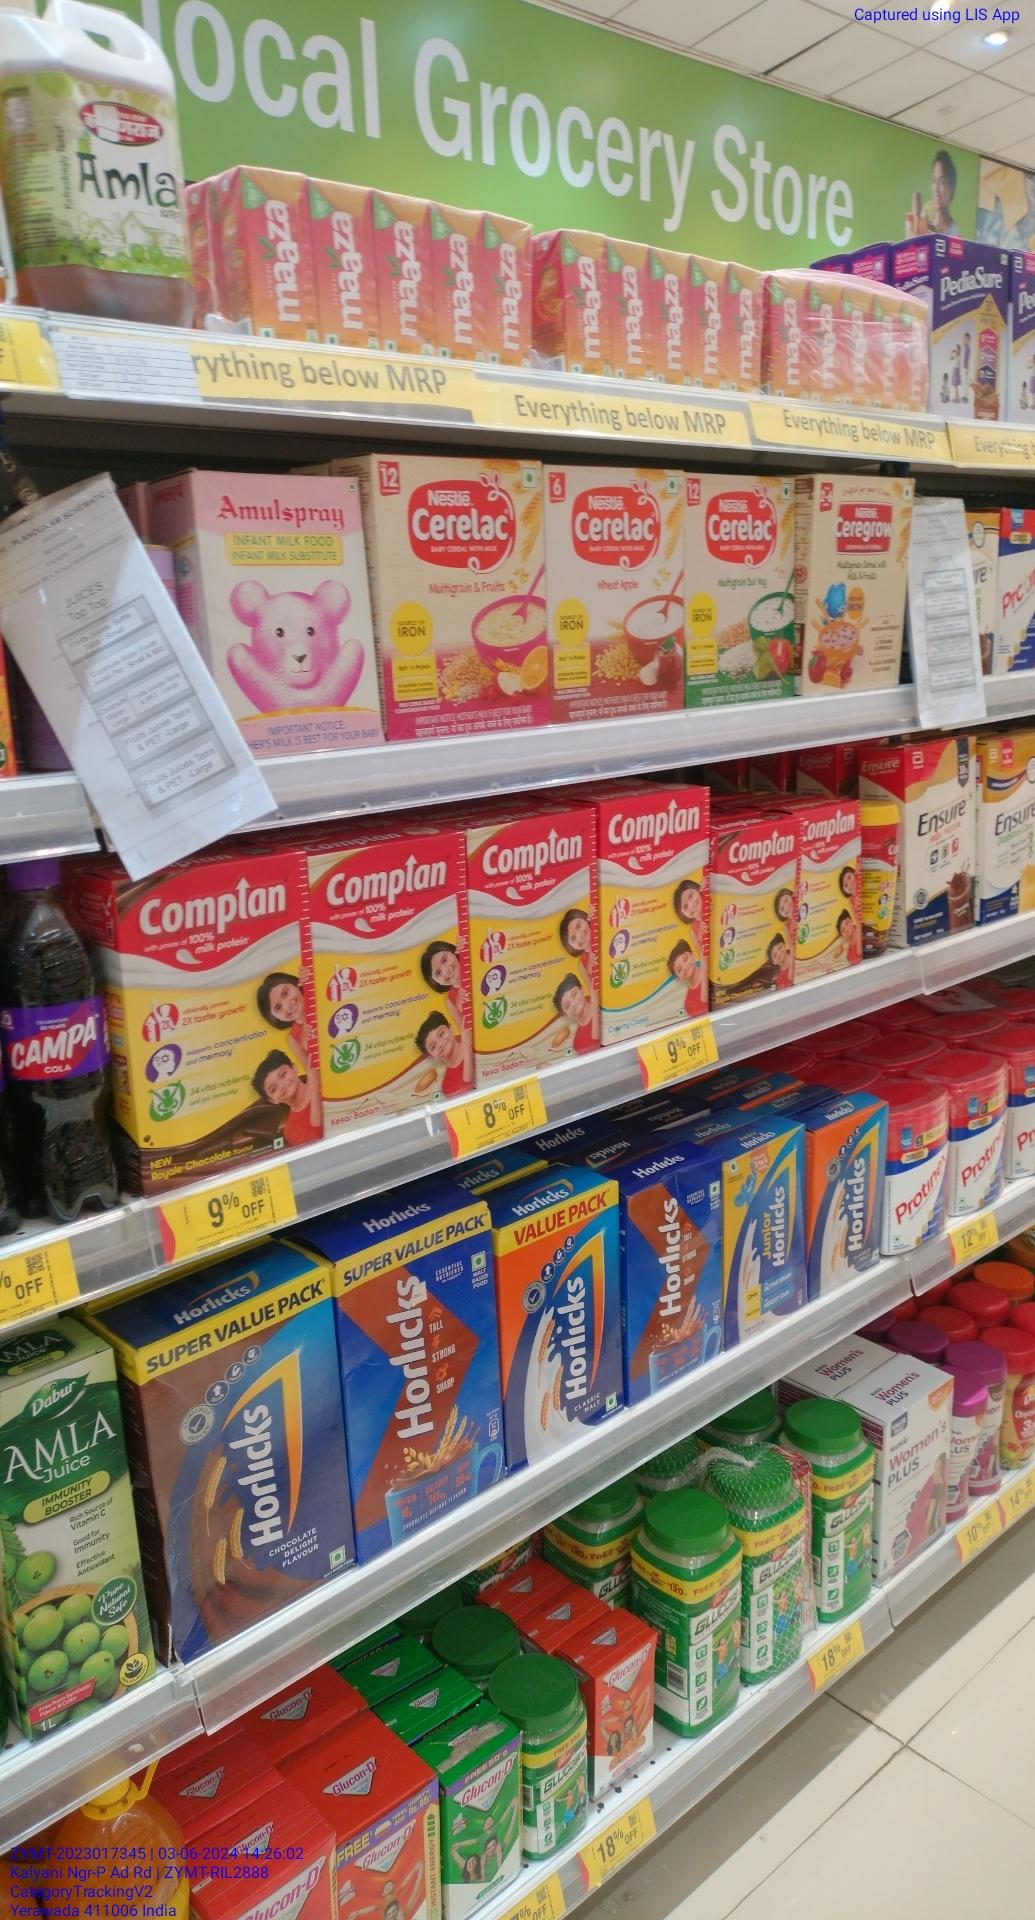COMPLAN_CHOCOLATE_200_GMS_PACK: (718, 823, 793, 998)
COMPLAN_CREAMY_CLASSIC_500_G_PACK: (603, 786, 714, 1043)
COMPLAN_KESAR_BADAM_200_GMS_PACK: (799, 806, 862, 975)
COMPLAN_KESAR_BADAM_500_GMS_PACK: (317, 831, 470, 1116), (474, 817, 599, 1074)
HORLICK_CHOCOLATE_1_KG_PACK: (347, 1218, 497, 1544)
HORLICK_CHOCOLATE_500_G_PACK: (630, 1172, 723, 1381)
HORLICK_CLASSIC_MALT_500_G_PACK: (814, 1119, 885, 1291)
PROTINEX_CHOCOLATE_400_G_JAR: (888, 1092, 951, 1257), (952, 1059, 1006, 1210)
